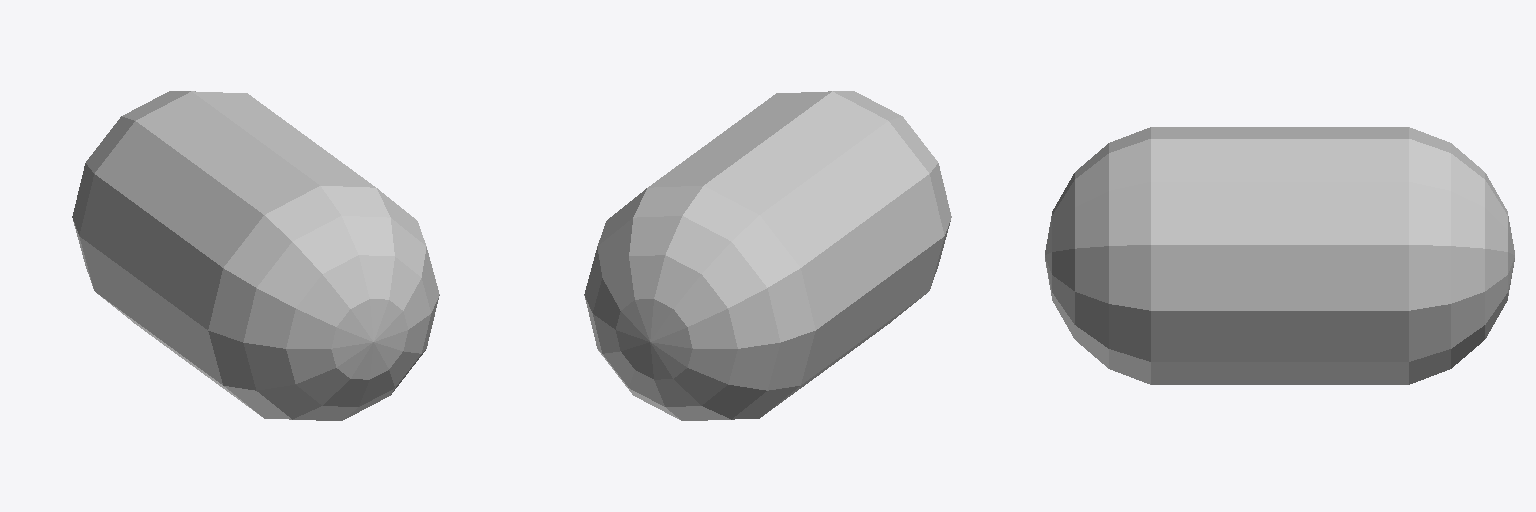
File: laser_yellow.obj
3 renders of one model, left to right at view 1: azimuth 30°, elevation 25°; view 2: azimuth 150°, elevation 25°; view 3: azimuth 270°, elevation 25°, orthographic.
Parts seen in each view (by area): view 1: Cylinder001; view 2: Cylinder001; view 3: Cylinder001.
Boxes of the visible parts, x1=… form: Cylinder001: x1=72, y1=91, x2=439, y2=420; Cylinder001: x1=584, y1=91, x2=951, y2=420; Cylinder001: x1=1045, y1=127, x2=1514, y2=384.
Size of the model in its own units: 40.92 by 40.92 by 74.35.